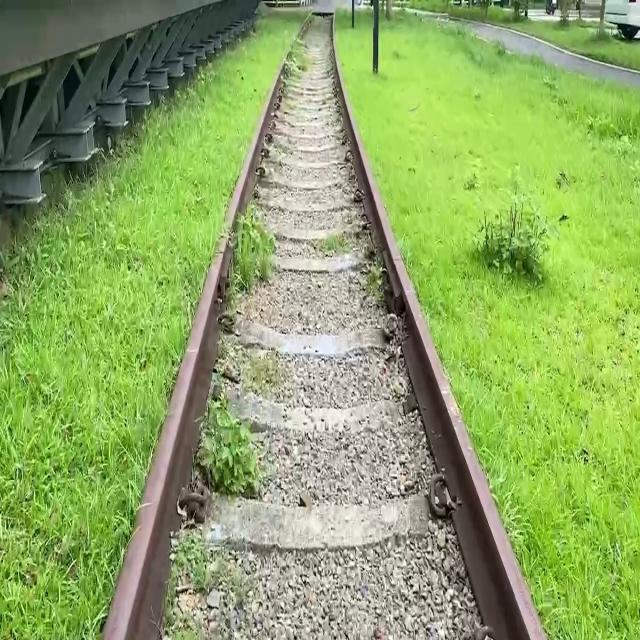rail-track: (165, 19, 489, 640)
